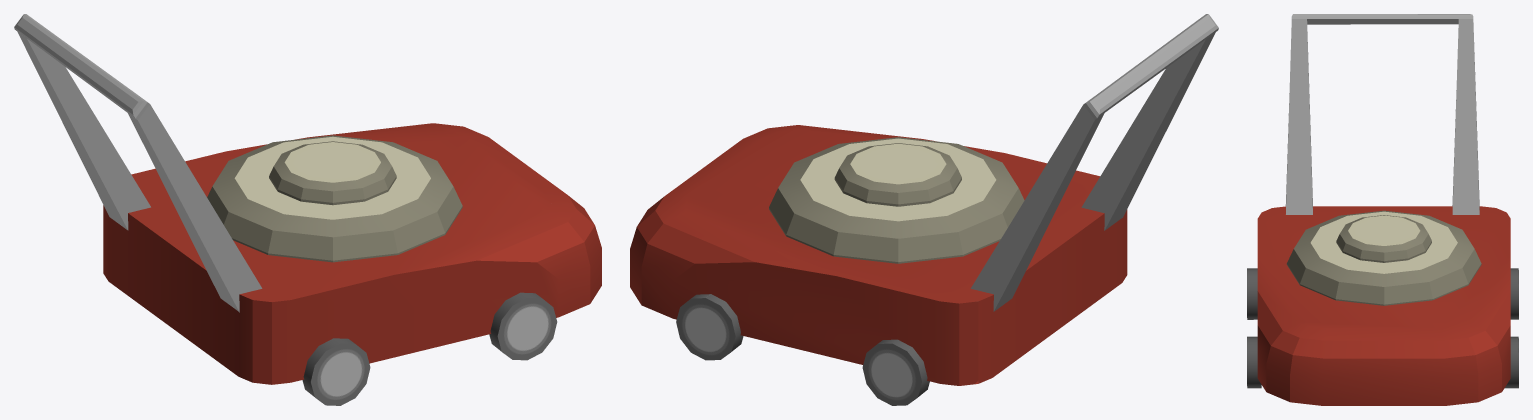
The model's file is lawn mower.fbx.
The picture shows the model from 3 angles, left to right: view 1: azimuth 30°, elevation 25°; view 2: azimuth 150°, elevation 25°; view 3: azimuth 270°, elevation 25°; orthographic projection. The views are drawn at different scales.
Parts seen in each view (by area): view 1: Cube, Cylinder; view 2: Cube, Cylinder; view 3: Cube, Cylinder.
Part boxes in pixels (left/top/right/bottom): Cube: left=14, top=14, right=601, bottom=384; Cylinder: left=302, top=292, right=557, bottom=405; Cube: left=630, top=14, right=1218, bottom=385; Cylinder: left=676, top=294, right=929, bottom=405; Cube: left=1257, top=14, right=1510, bottom=405; Cylinder: left=1247, top=268, right=1518, bottom=388.
Bounding box in the file's own units: 327 × 212 × 215.
